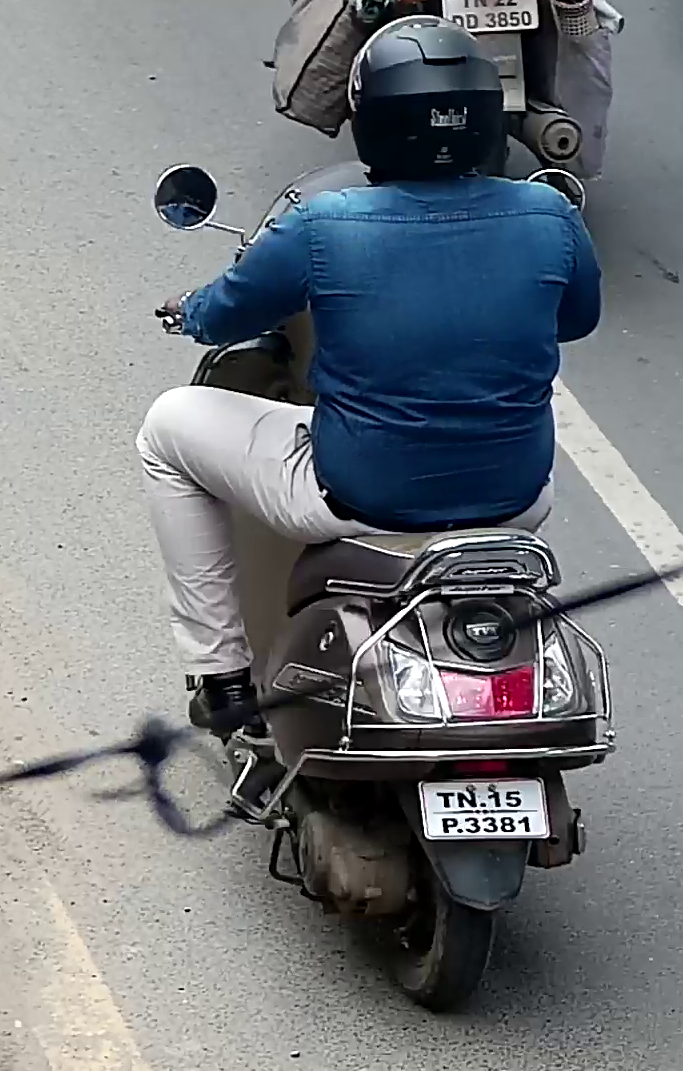.: (479, 802, 487, 808), (457, 828, 463, 834)
1: (516, 815, 531, 833), (488, 790, 502, 808)
3: (464, 816, 481, 833), (481, 816, 498, 833)
5: (503, 790, 522, 808)
8: (499, 816, 516, 833)
N: (456, 789, 478, 808)
P: (442, 816, 457, 834)
P16: (414, 775, 552, 842)
T: (435, 790, 455, 808)
